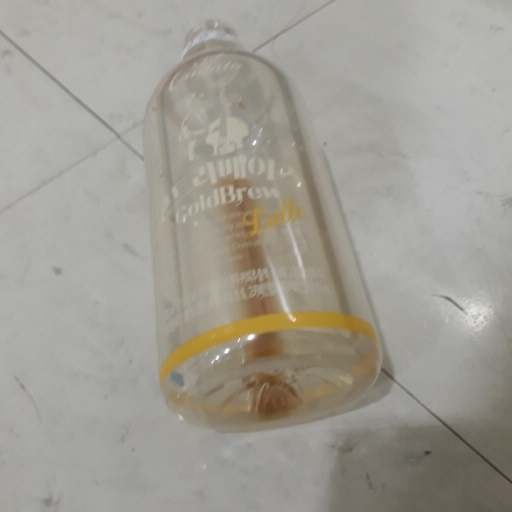Plastic_0: (143, 19, 385, 429)
